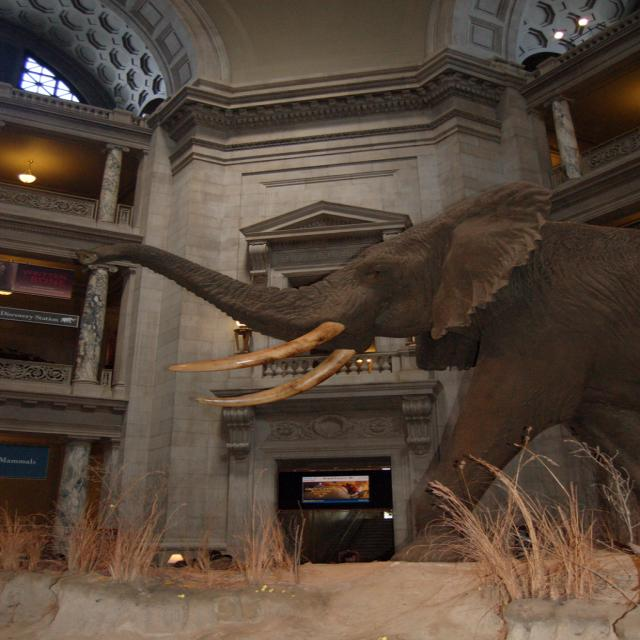elephant: (71, 174, 610, 532)
